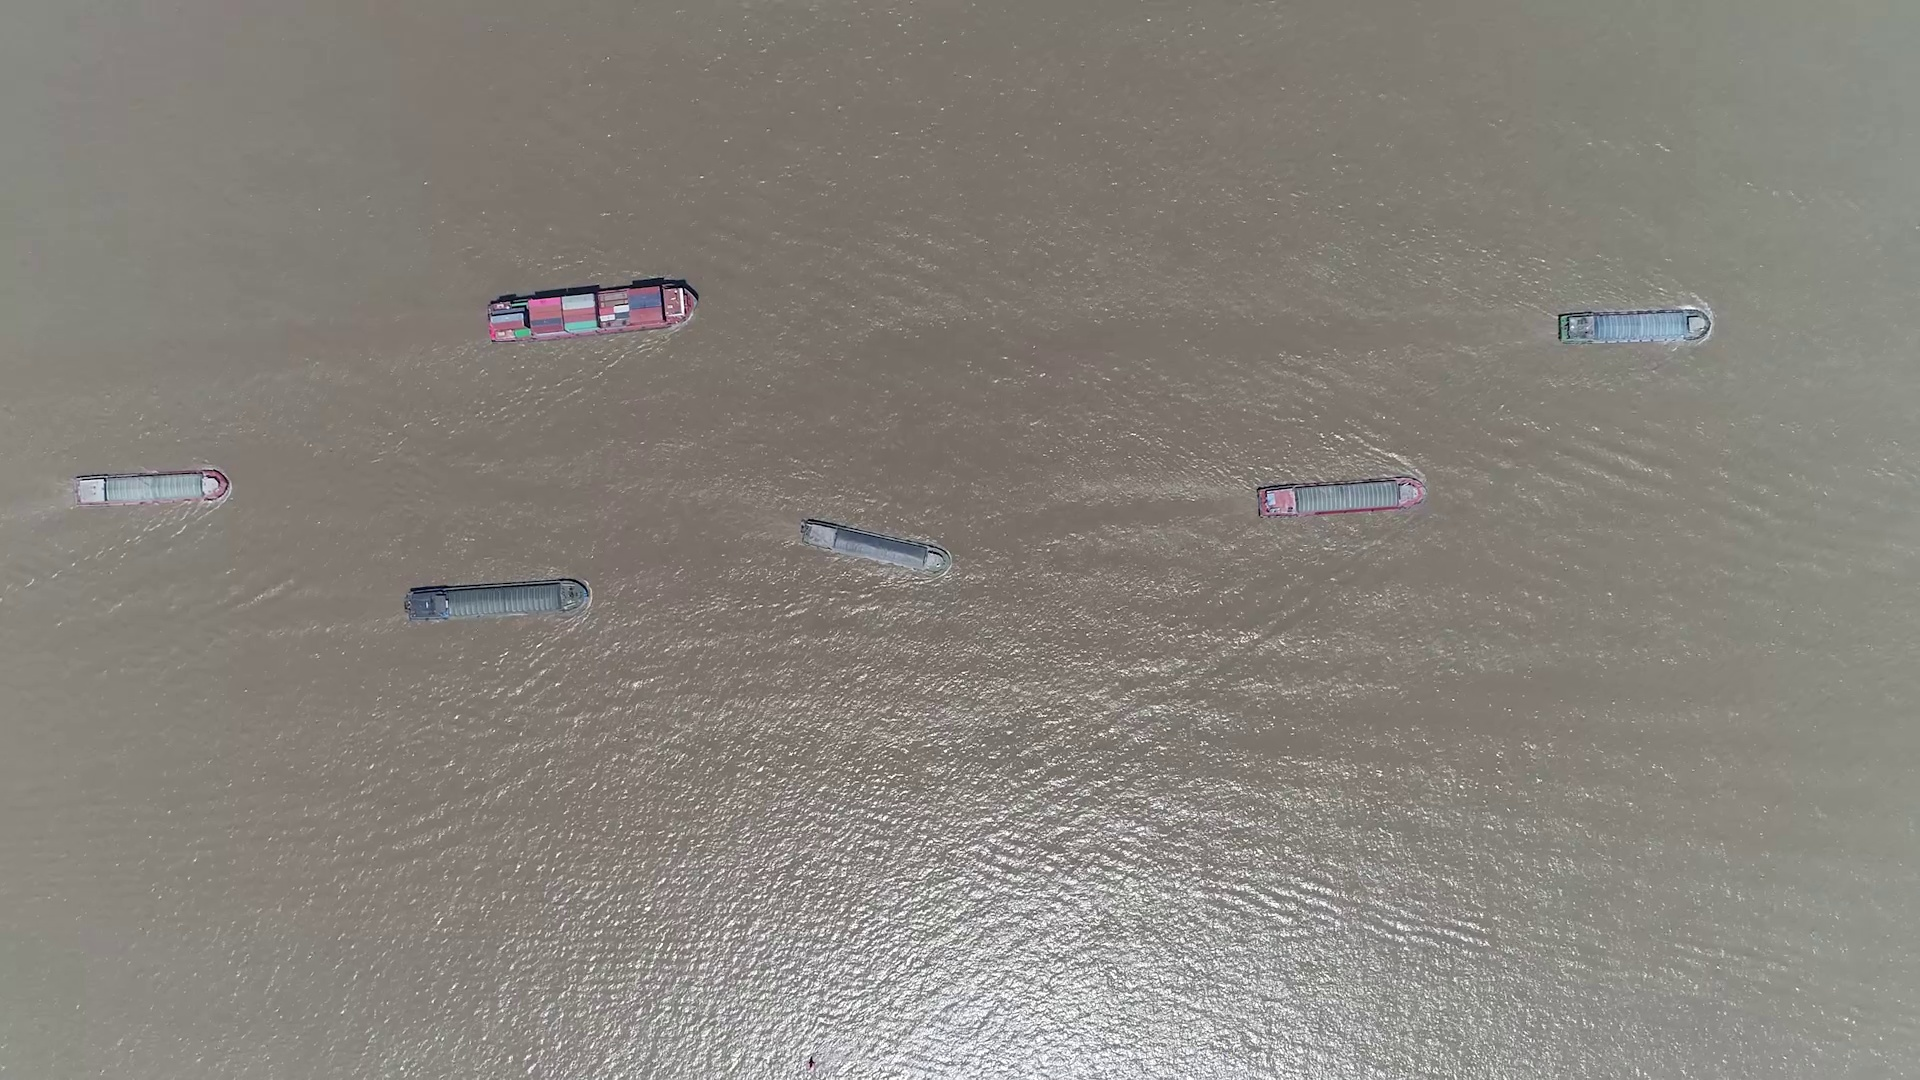ship: (485, 281, 698, 342), (799, 518, 952, 575), (404, 578, 589, 622), (1257, 475, 1425, 517), (76, 471, 229, 506), (1559, 311, 1709, 344)
